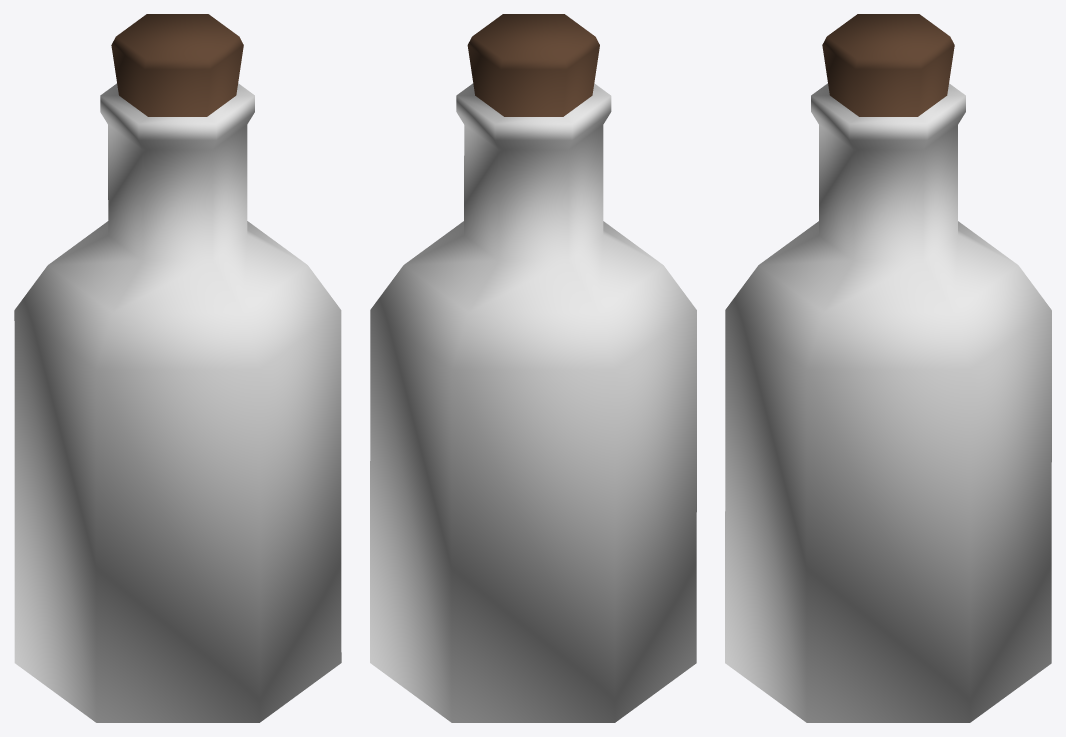
File: messagebottle.fbx
3 renders of one model, left to right at view 1: azimuth 30°, elevation 25°; view 2: azimuth 150°, elevation 25°; view 3: azimuth 270°, elevation 25°, orthographic.
Parts seen in each view (by area): view 1: Cylinder.002; view 2: Cylinder.002; view 3: Cylinder.002.
Part boxes in pixels (bbox=[...]): Cylinder.002: bbox=[14, 14, 341, 722]; Cylinder.002: bbox=[370, 14, 696, 722]; Cylinder.002: bbox=[725, 14, 1051, 722].
Bounding box in the file's own units: 6.38 × 15.57 × 7.36.
